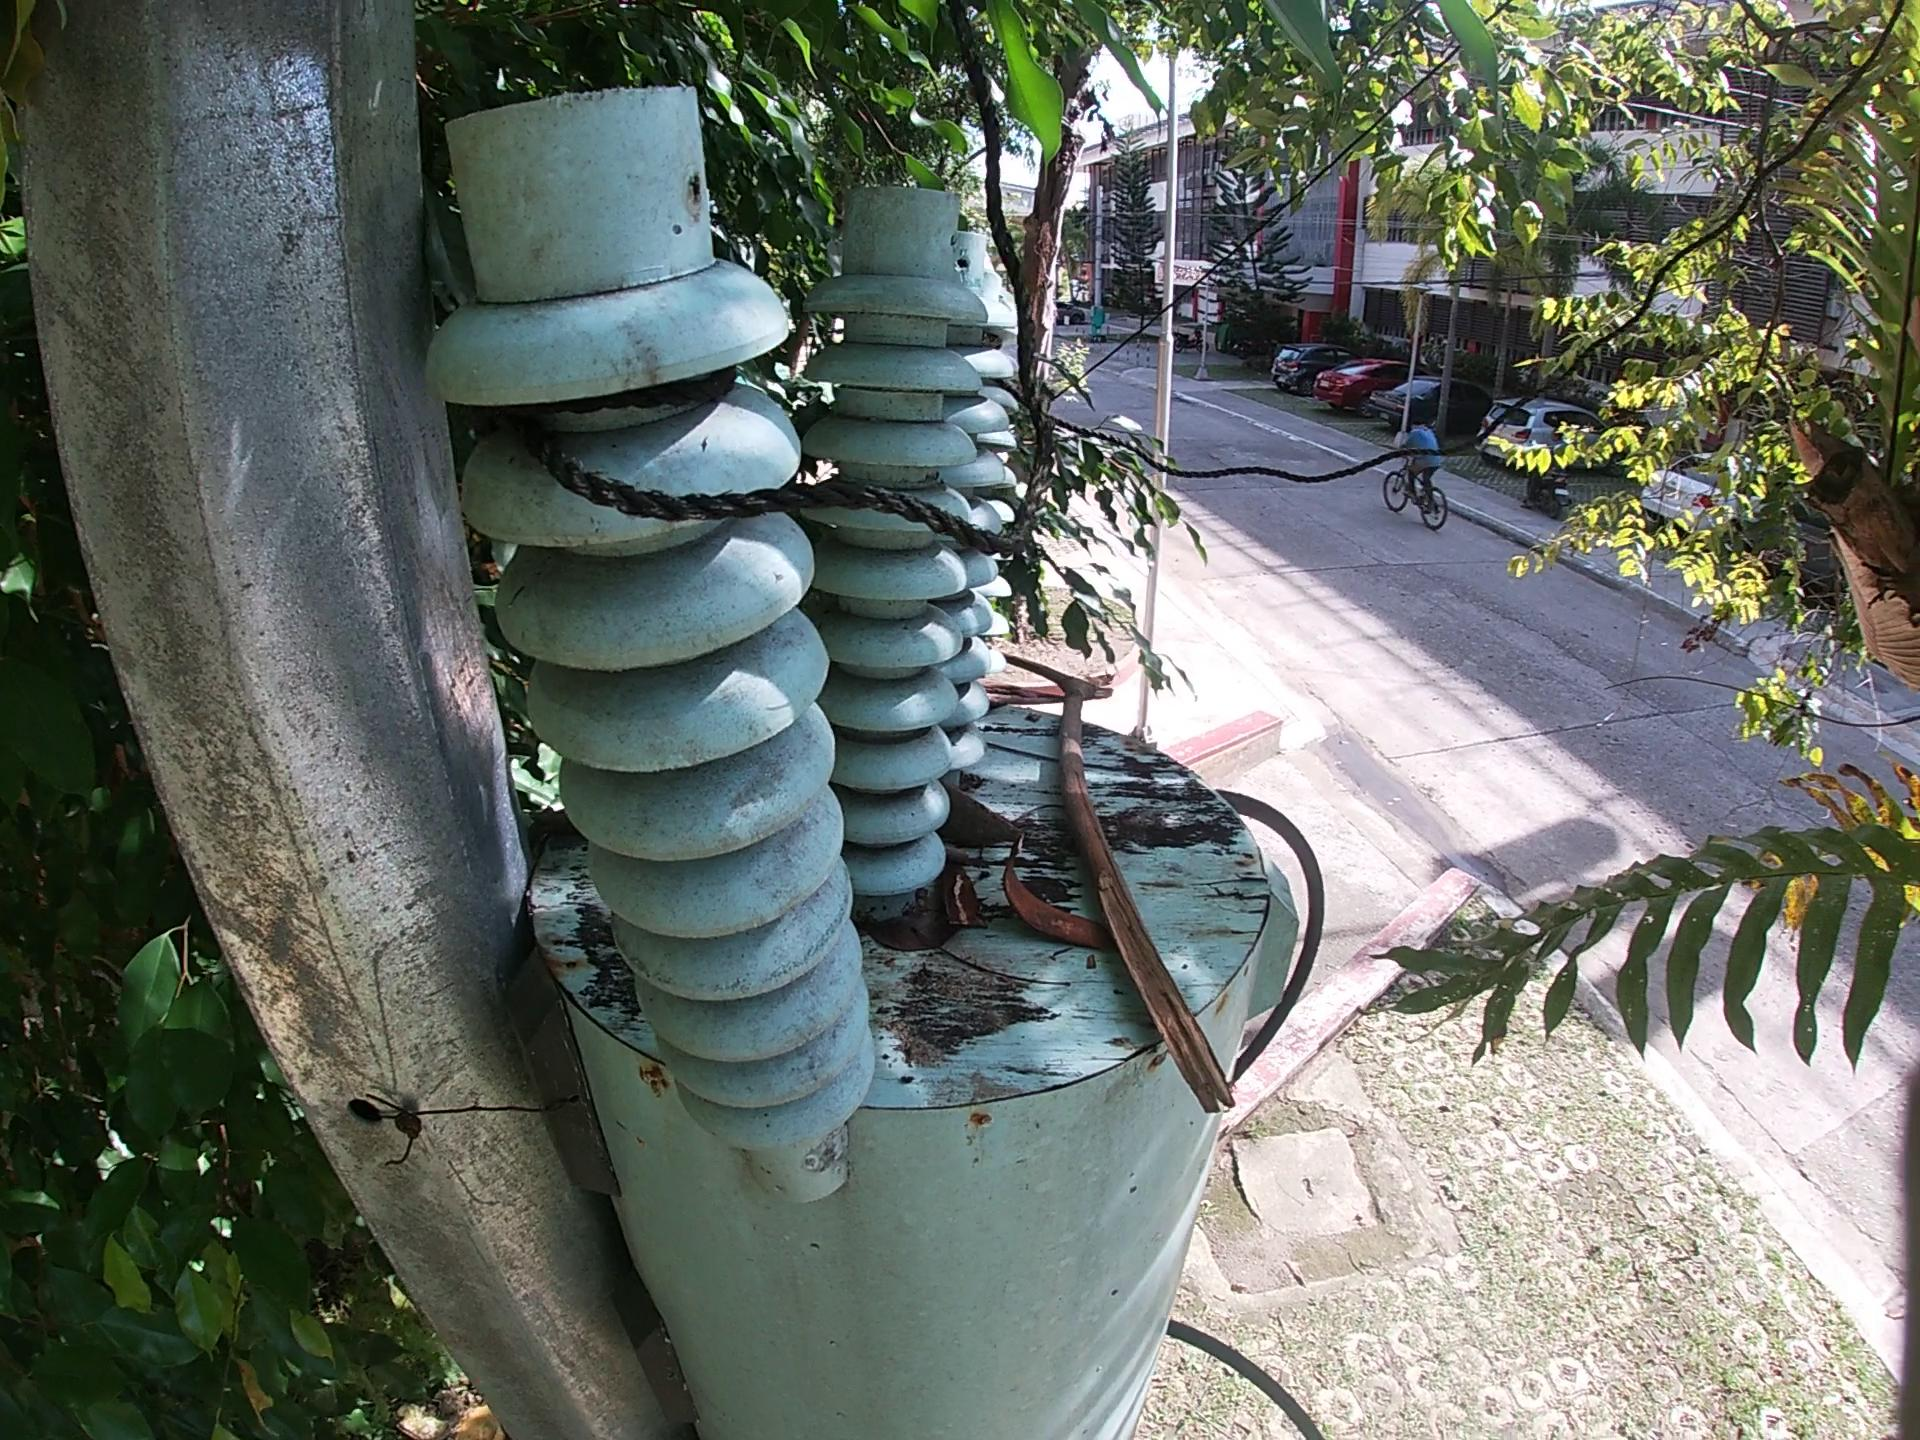leaf: (872, 911, 943, 961)
mahogany fruit: (992, 843, 1092, 945), (933, 793, 1067, 858)
tree branch: (996, 647, 1253, 1124), (933, 945, 1110, 1009), (996, 734, 1154, 771), (951, 858, 980, 950)
